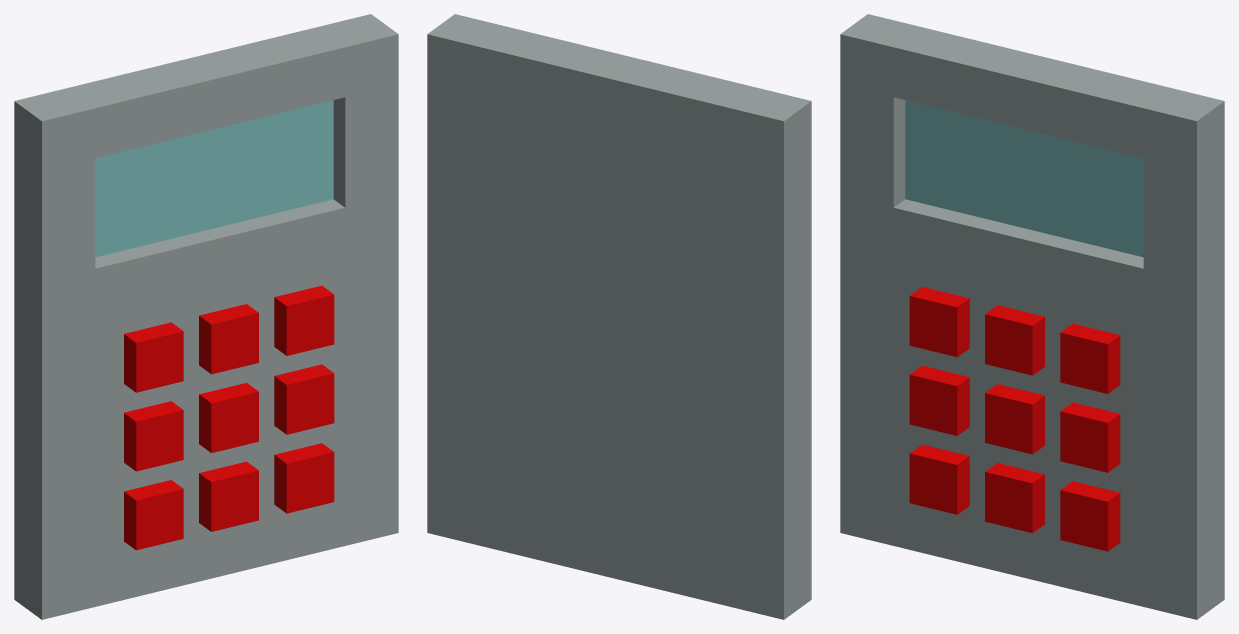
The model's file is Pin Pad Final.fbx.
The picture shows the model from 3 angles, left to right: view 1: azimuth 30°, elevation 25°; view 2: azimuth 150°, elevation 25°; view 3: azimuth 330°, elevation 25°; orthographic projection.
Visible parts, largest first — view 1: Capstone_assets:polySurface11; view 2: Capstone_assets:polySurface11; view 3: Capstone_assets:polySurface11.
Part boxes in pixels (x1,y1,x2,y2): Capstone_assets:polySurface11: [14, 14, 398, 619]; Capstone_assets:polySurface11: [427, 14, 811, 619]; Capstone_assets:polySurface11: [840, 14, 1224, 619].
Bounding box in the file's own units: 0.9477 × 1.27 × 0.1843.
